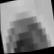correct: (0, 0, 51, 54)
